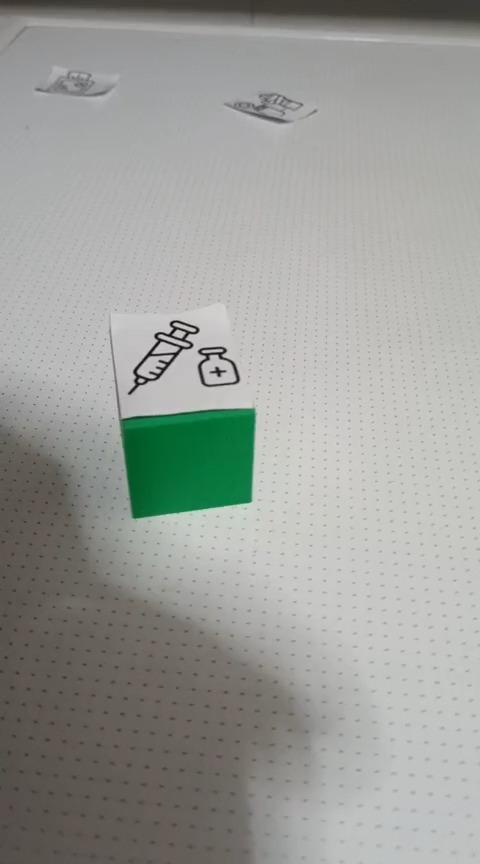antiseptic cream: (107, 300, 257, 519)
